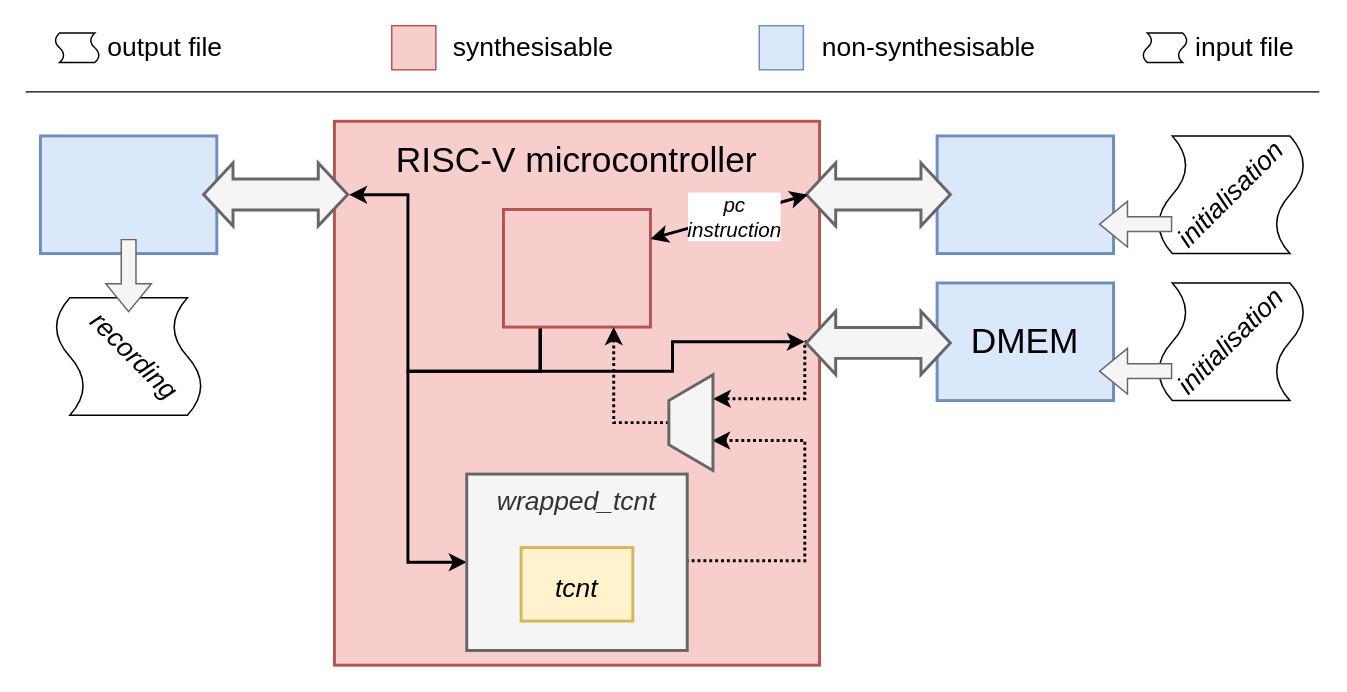
Image size: 1347x692. Some labels were removed from this diagram. Here are the shapes that lost their labels. From the top down, the centre of each, then its label:
pixel 128 194: Basic IO
pixel 1024 194: IMEM
pixel 576 267: RISC-V micro- processor
